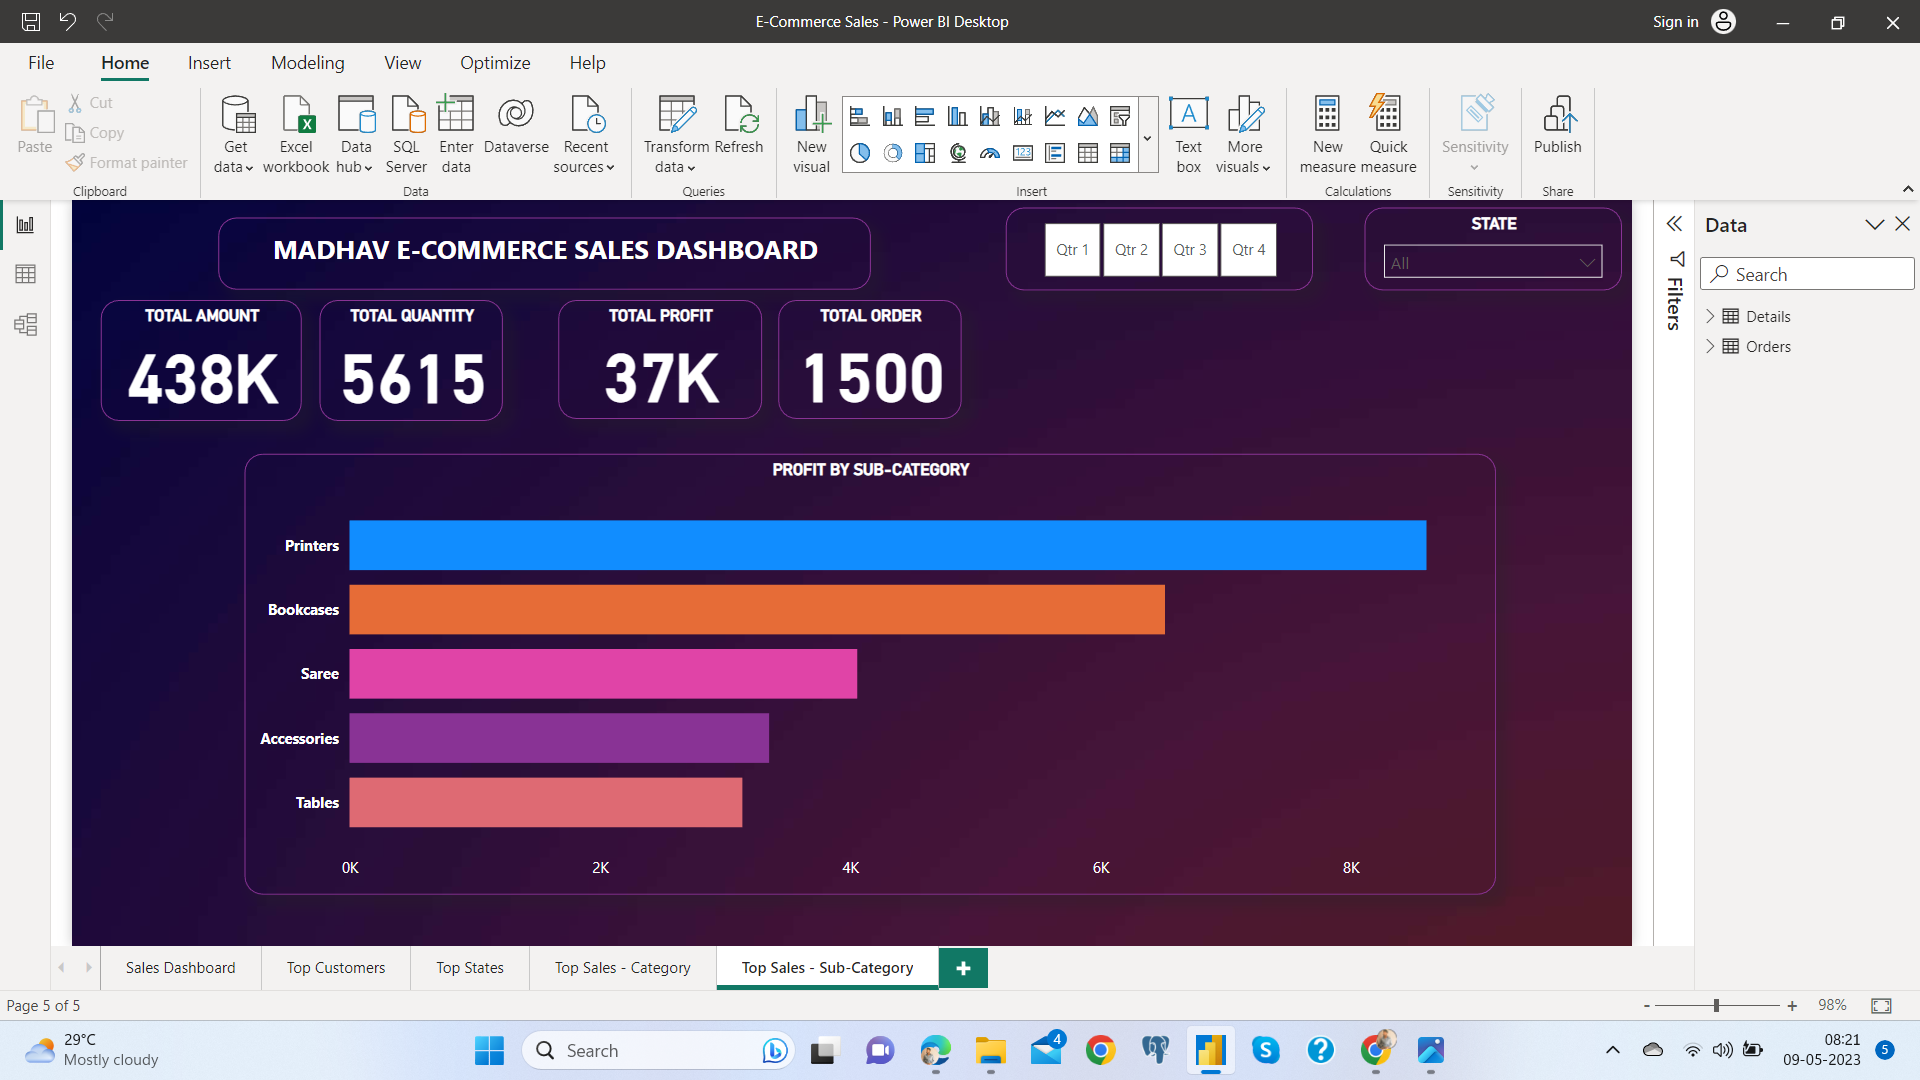

Layout of this report page (visuals, bound fields, positions):
{"tool":"powerbi","page":{"name":"Top Sales - Sub-Category","canvas":[1280,612],"ordinal":4},"visuals":[{"type":"textbox","box":[119.9,14.4,535.1,59.5],"z":0},{"type":"clusteredBarChart","title":"PROFIT BY SUB-CATEGORY","fields":{"Category":["Details.Sub-Category"],"Y":["Sum(Details.Profit)"]},"box":[141.5,208.1,1026.2,361.9],"z":2000},{"type":"card","title":"TOTAL AMOUNT","fields":{"Values":["Sum(Details.Amount)"]},"box":[23.6,82,165,99.4],"z":5000},{"type":"card","title":"TOTAL QUANTITY","fields":{"Values":["Sum(Details.Quantity)"]},"box":[203,82,150.7,99.4],"z":6000},{"type":"card","title":"TOTAL PROFIT","fields":{"Values":["Sum(Details.Profit)"]},"box":[398.8,82,167.1,97.4],"z":7000},{"type":"slicer","fields":{"Values":["Orders.Order Date.Variation.Date Hierarchy.Quarter"]},"box":[765.8,6.2,252.2,67.7],"z":10000},{"type":"slicer","title":"STATE","fields":{"Values":["Orders.State"]},"box":[1060,6.2,211.2,67.7],"z":11000},{"type":"card","title":"TOTAL ORDER","fields":{"Values":["CountNonNull(Details.Order ID)"]},"box":[579.2,82,150.7,97.4],"z":12000}]}

Visuals, with their boxes on the page's 1280x612 design canvas (x1, y1, x2, y2). These are canvas units, not pixel positions in the 1920x1080 screenshot, which may show the page scaled, cropped or inside an application window:
textbox: [left=120, top=14, right=655, bottom=74]
"PROFIT BY SUB-CATEGORY" clusteredBarChart: [left=142, top=208, right=1168, bottom=570]
"TOTAL AMOUNT" card: [left=24, top=82, right=189, bottom=181]
"TOTAL QUANTITY" card: [left=203, top=82, right=354, bottom=181]
"TOTAL PROFIT" card: [left=399, top=82, right=566, bottom=179]
slicer - Orders.Order Date.Variation.Date Hierarchy.Quarter: [left=766, top=6, right=1018, bottom=74]
"STATE" slicer: [left=1060, top=6, right=1271, bottom=74]
"TOTAL ORDER" card: [left=579, top=82, right=730, bottom=179]
